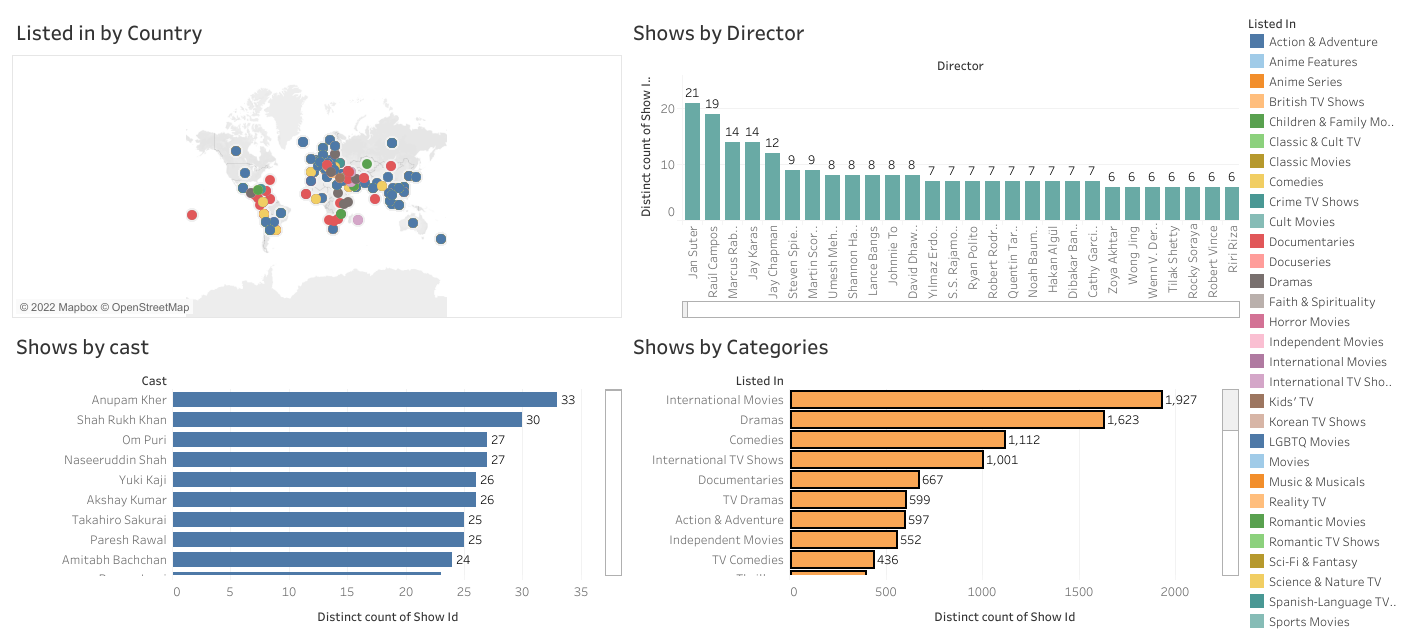

What the dashboard file says about the page in this screenshot:
{"tool":"tableau","page":{"name":"Dashboard 1","canvas":[1000,1000],"units":"permille","ordinal":0},"visuals":[{"type":"worksheet","title":"Listed in by country","mark":"Automatic","box":[8.7,12.6,404,487.3]},{"type":"worksheet","title":"Shows by Director","mark":"Automatic","rows":["show_id (netflix!titles!cast)"],"cols":["director"],"box":[412.8,12.6,404,487.3]},{"type":"legend","title":"Listed in by country","param":"[federated.09y3o8d16or49q11x12wa12pm8ae].[none:listed_in:nk]","box":[816.8,12.6,174.5,974.7]},{"type":"worksheet","title":"Shows by cast","mark":"Automatic","rows":["cast"],"cols":["show_id"],"box":[8.7,500,404,487.4]},{"type":"worksheet","title":"Shows by categories","mark":"Automatic","rows":["listed_in"],"cols":["show_id"],"box":[412.8,500,404,487.4]}]}

Visuals, with their boxes on the dashboard's canvas, which has no fixed pixel size, in thousandths of its width and height (x1, y1, x2, y2). These are canvas units, not pixel positions in the 1410x643 screenshot, which may show the page scaled, cropped or inside an application window:
"Listed in by country" worksheet: (left=9, top=13, right=413, bottom=500)
"Shows by Director" worksheet: (left=413, top=13, right=817, bottom=500)
"Listed in by country" legend: (left=817, top=13, right=991, bottom=987)
"Shows by cast" worksheet: (left=9, top=500, right=413, bottom=987)
"Shows by categories" worksheet: (left=413, top=500, right=817, bottom=987)
